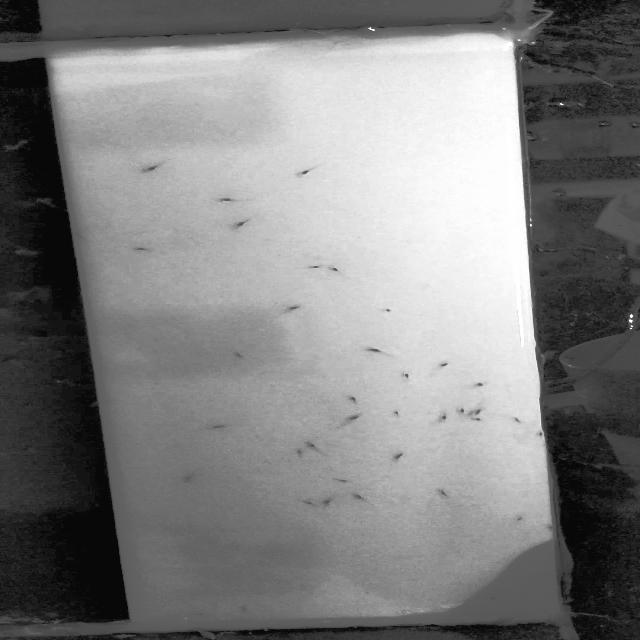shrimp: (273, 298, 309, 320), (174, 468, 212, 487), (429, 487, 466, 504), (130, 159, 166, 176), (284, 164, 318, 181), (321, 472, 361, 486), (393, 370, 432, 383), (356, 346, 396, 358), (429, 357, 465, 370), (351, 491, 382, 506), (480, 591, 510, 606), (130, 241, 156, 258), (222, 347, 251, 362), (227, 216, 260, 229), (300, 438, 330, 452), (383, 449, 415, 462), (499, 512, 533, 524), (342, 412, 378, 422), (385, 404, 407, 420), (430, 411, 453, 426), (330, 262, 350, 279), (466, 380, 500, 390), (214, 193, 241, 205), (207, 420, 234, 432), (505, 415, 535, 425), (318, 498, 345, 509), (296, 496, 318, 509), (188, 610, 214, 621), (377, 304, 398, 317), (346, 393, 366, 406), (232, 604, 256, 614), (305, 263, 325, 273), (467, 415, 488, 424), (457, 404, 470, 417), (73, 230, 89, 240), (472, 405, 486, 414), (532, 430, 546, 439)
